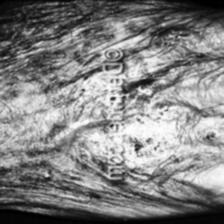Potentially Malignant Skin Tumors: (44, 74, 100, 166), (125, 115, 175, 175), (130, 56, 166, 104), (196, 114, 224, 146), (165, 26, 205, 46)
